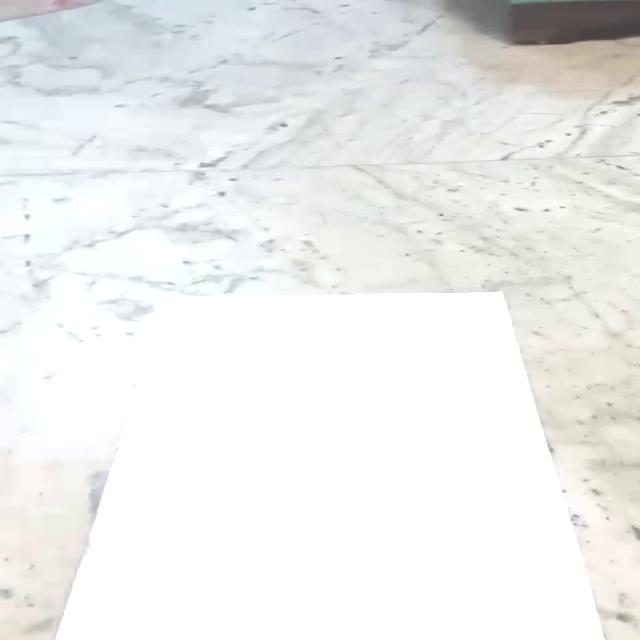road: (53, 293, 607, 640)
